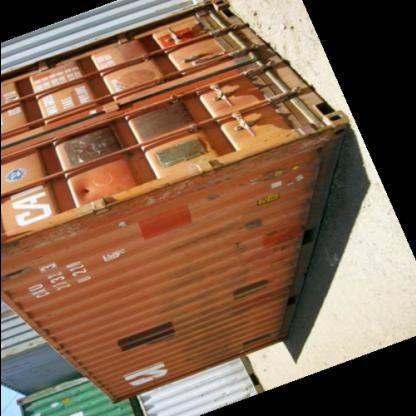Damage: (3, 182, 150, 266), (143, 134, 325, 196), (199, 236, 240, 306), (233, 206, 262, 240)
